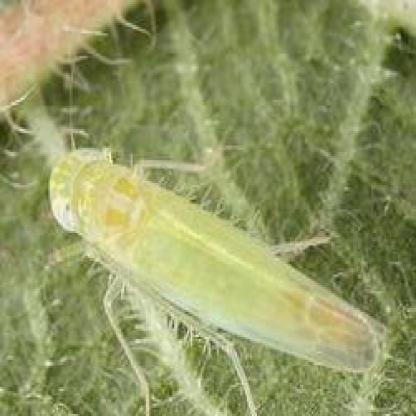Green-Leafhopper: (43, 142, 393, 412)
